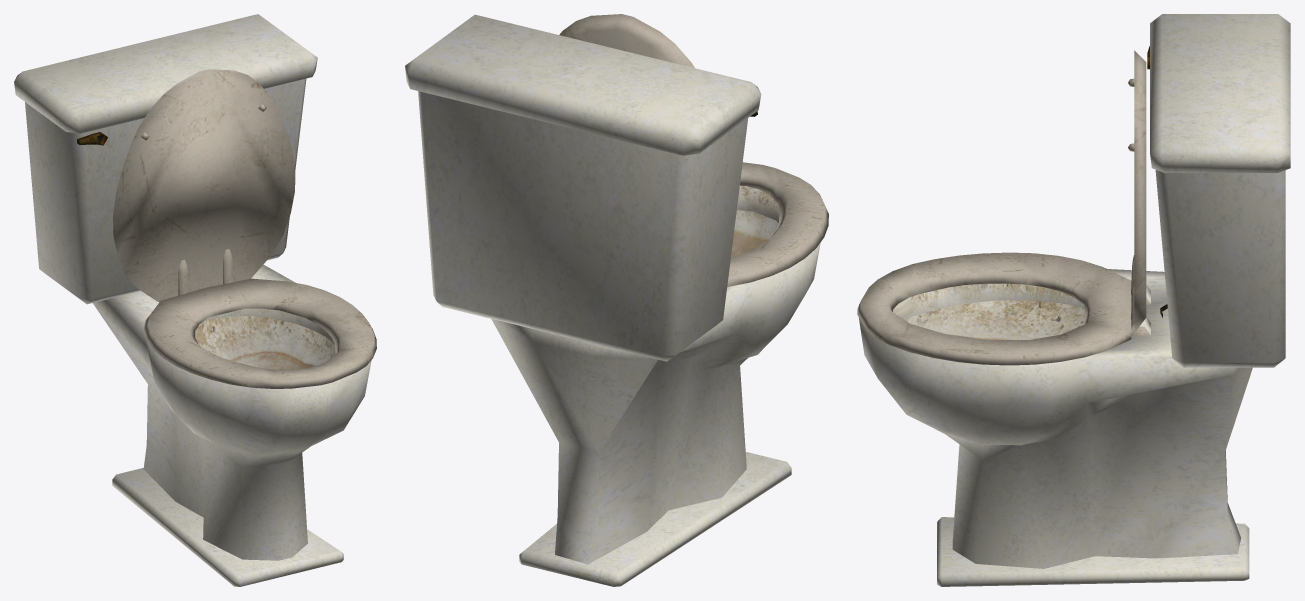
Rendered from crapper.obj.
3 views of the same model, side by side, from view 1: azimuth 30°, elevation 25°; view 2: azimuth 150°, elevation 25°; view 3: azimuth 270°, elevation 25° (orthographic). The views are drawn at different scales.
Parts seen in each view (by area): view 1: Model001_4_Material790_1.0_0.0_0.0; view 2: Model001_4_Material790_1.0_0.0_0.0; view 3: Model001_4_Material790_1.0_0.0_0.0.
Part boxes in pixels (x1,y1,x2,y2): Model001_4_Material790_1.0_0.0_0.0: (14, 14, 376, 586); Model001_4_Material790_1.0_0.0_0.0: (405, 14, 828, 586); Model001_4_Material790_1.0_0.0_0.0: (857, 14, 1290, 586).
Size of the model in its own units: 0.5741 by 0.9569 by 0.7529.
